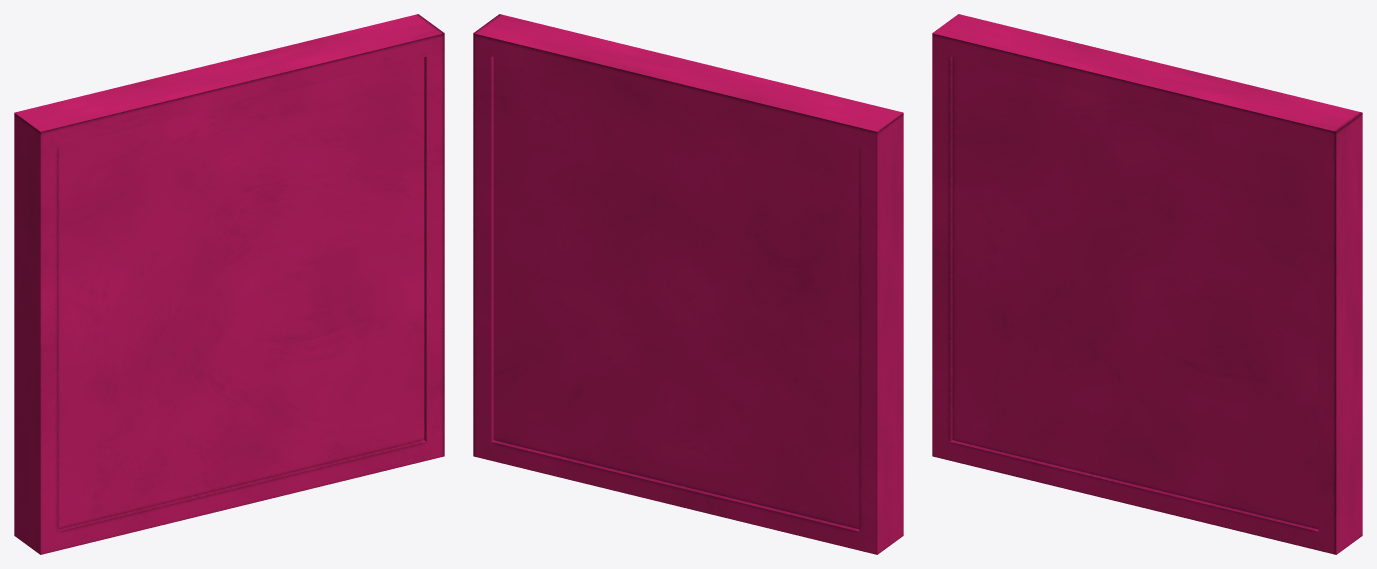
The model's file is square_symbol.fbx.
3 views of the same model, side by side, from view 1: azimuth 30°, elevation 25°; view 2: azimuth 150°, elevation 25°; view 3: azimuth 330°, elevation 25° (orthographic).
Visible parts, largest first — view 1: square; view 2: square; view 3: square.
Boxes of the visible parts, x1=… form: square: x1=14, y1=14, x2=444, y2=554; square: x1=473, y1=14, x2=903, y2=554; square: x1=932, y1=14, x2=1362, y2=554.
Bounding box in the file's own units: 196 × 196 × 22.12.
